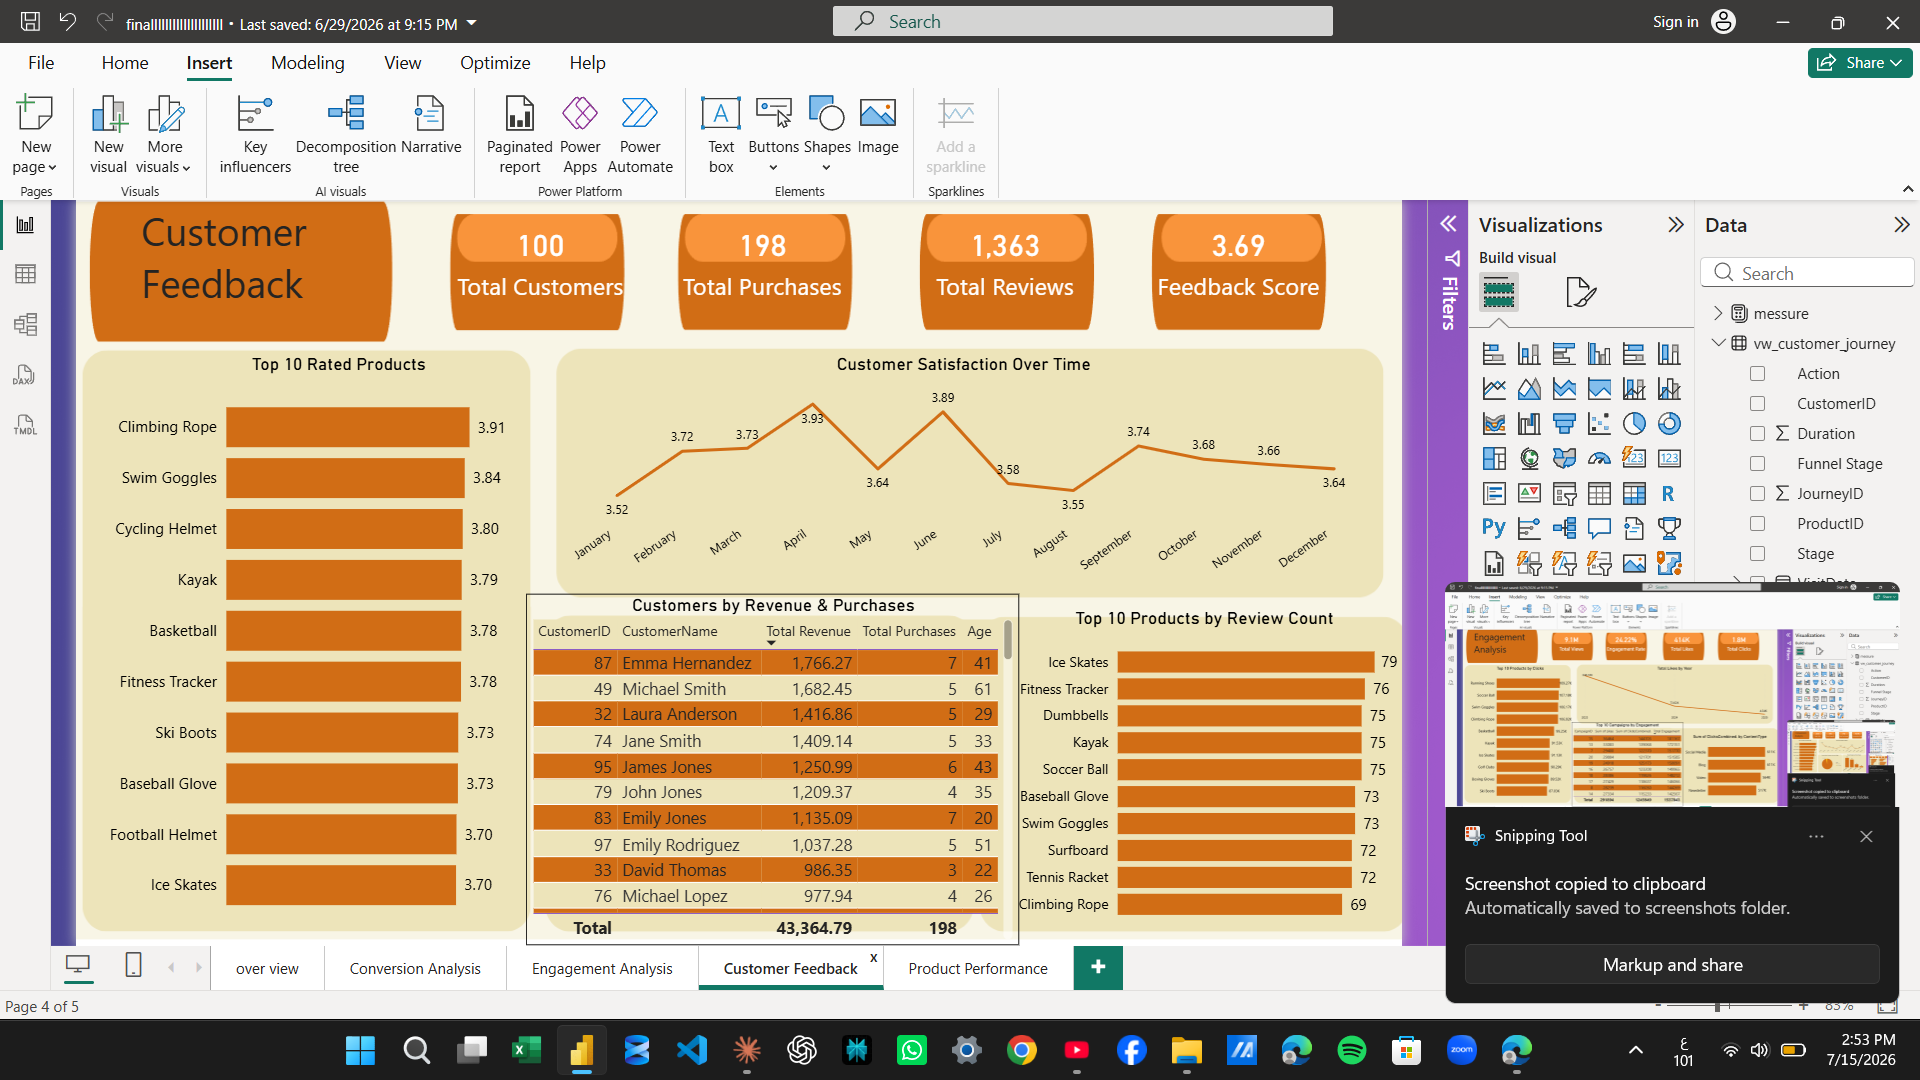

What the dashboard file says about the page in this screenshot:
{"tool":"powerbi","page":{"name":"Customer Feedback","canvas":[1280,720],"ordinal":3},"visuals":[{"type":"barChart","title":"Top 10 Rated Products","fields":{"Category":["vw_products.ProductName"],"Y":["messure.Feedback Score"]},"box":[19.7,147.9,469,557.7],"z":0},{"type":"lineChart","title":"Customer Satisfaction Over Time","fields":{"Category":["vw_customer_reviews.ReviewDate.Variation.Date Hierarchy.Month"],"Y":["messure.Feedback Score"]},"box":[469.3,148.2,775.3,231.9],"z":1000},{"type":"card","fields":{"Values":["messure.Feedback Score"]},"box":[1036.6,0,171.8,114.1],"z":2000},{"type":"card","fields":{"Values":["messure.Total Customers"]},"box":[357.7,0,180.3,114.1],"z":3000},{"type":"card","fields":{"Values":["messure.Total Purchases"]},"box":[580.3,0,164.8,114.1],"z":4000},{"type":"card","fields":{"Values":["messure.Total Reviews"]},"box":[812.7,0,167.6,114.1],"z":5000},{"type":"barChart","title":"Top 10 Products by Review Count","fields":{"Y":["messure.Total Reviews"],"Category":["vw_products.ProductName"]},"box":[897.2,393,383.1,312.7],"z":6000},{"type":"tableEx","title":"Customers by Revenue & Purchases","fields":{"Values":["vw_customers.CustomerID","vw_customers.CustomerName","messure.Total Revenue","messure.Total Purchases","vw_customers.Age"]},"box":[433.8,380.3,476.1,339.4],"z":7000},{"type":"textbox","box":[18.3,0,322.5,150.7],"z":8000}]}

Visuals, with their boxes on the page's 1280x720 design canvas (x1, y1, x2, y2). These are canvas units, not pixel positions in the 1920x1080 screenshot, which may show the page scaled, cropped or inside an application window:
"Top 10 Rated Products" barChart: 20 148 489 706
"Customer Satisfaction Over Time" lineChart: 469 148 1245 380
card - messure.Feedback Score: 1037 0 1208 114
card - messure.Total Customers: 358 0 538 114
card - messure.Total Purchases: 580 0 745 114
card - messure.Total Reviews: 813 0 980 114
"Top 10 Products by Review Count" barChart: 897 393 1280 706
"Customers by Revenue & Purchases" tableEx: 434 380 910 720
textbox: 18 0 341 151
